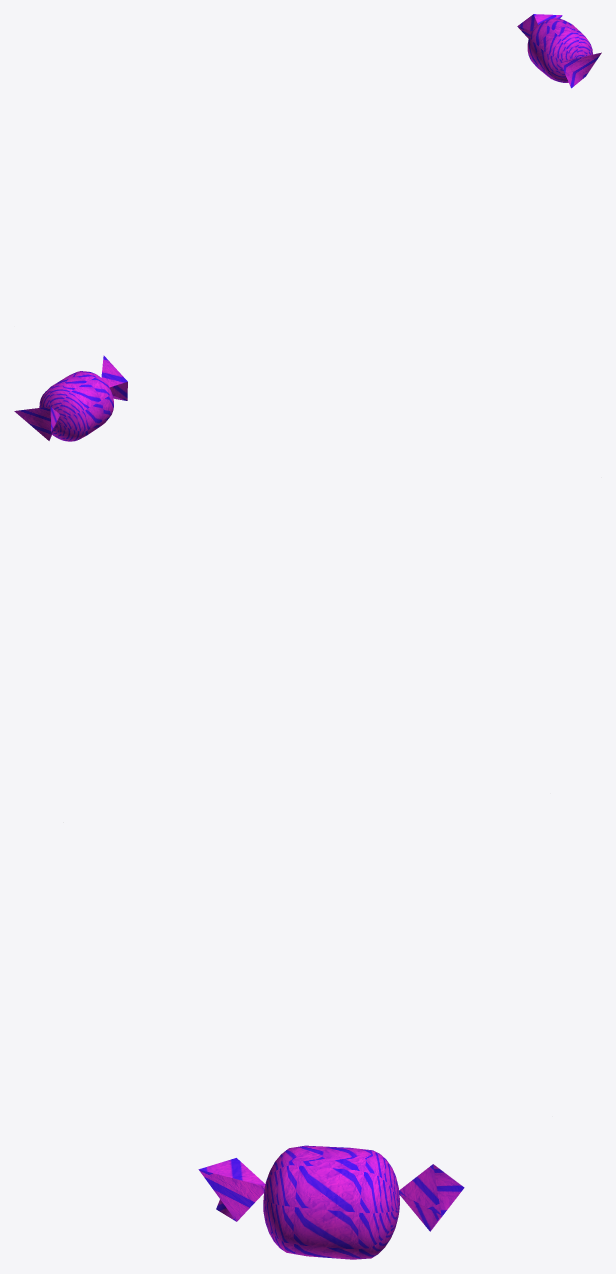
File: raped candy.FBX
The picture shows the model from 3 angles, top to bottom: view 1: azimuth 30°, elevation 25°; view 2: azimuth 150°, elevation 25°; view 3: azimuth 270°, elevation 25°; orthographic projection. The views are drawn at different scales.
Parts seen in each view (by area): view 1: Sphere001, Pyramid002, Pyramid001; view 2: Sphere001, Pyramid001, Pyramid002; view 3: Sphere001, Pyramid002, Pyramid001.
Part boxes in pixels (x1=…): Sphere001: x1=527, y1=18, x2=592, y2=82; Pyramid002: x1=560, y1=52, x2=601, y2=88; Pyramid001: x1=517, y1=14, x2=562, y2=38; Sphere001: x1=39, y1=371, x2=113, y2=441; Pyramid001: x1=14, y1=406, x2=59, y2=440; Pyramid002: x1=101, y1=355, x2=127, y2=400; Sphere001: x1=263, y1=1145, x2=399, y2=1259; Pyramid002: x1=198, y1=1158, x2=265, y2=1221; Pyramid001: x1=399, y1=1164, x2=464, y2=1231.
Size of the model in its own units: 716 by 291 by 291.
1 material, 1 textured.
